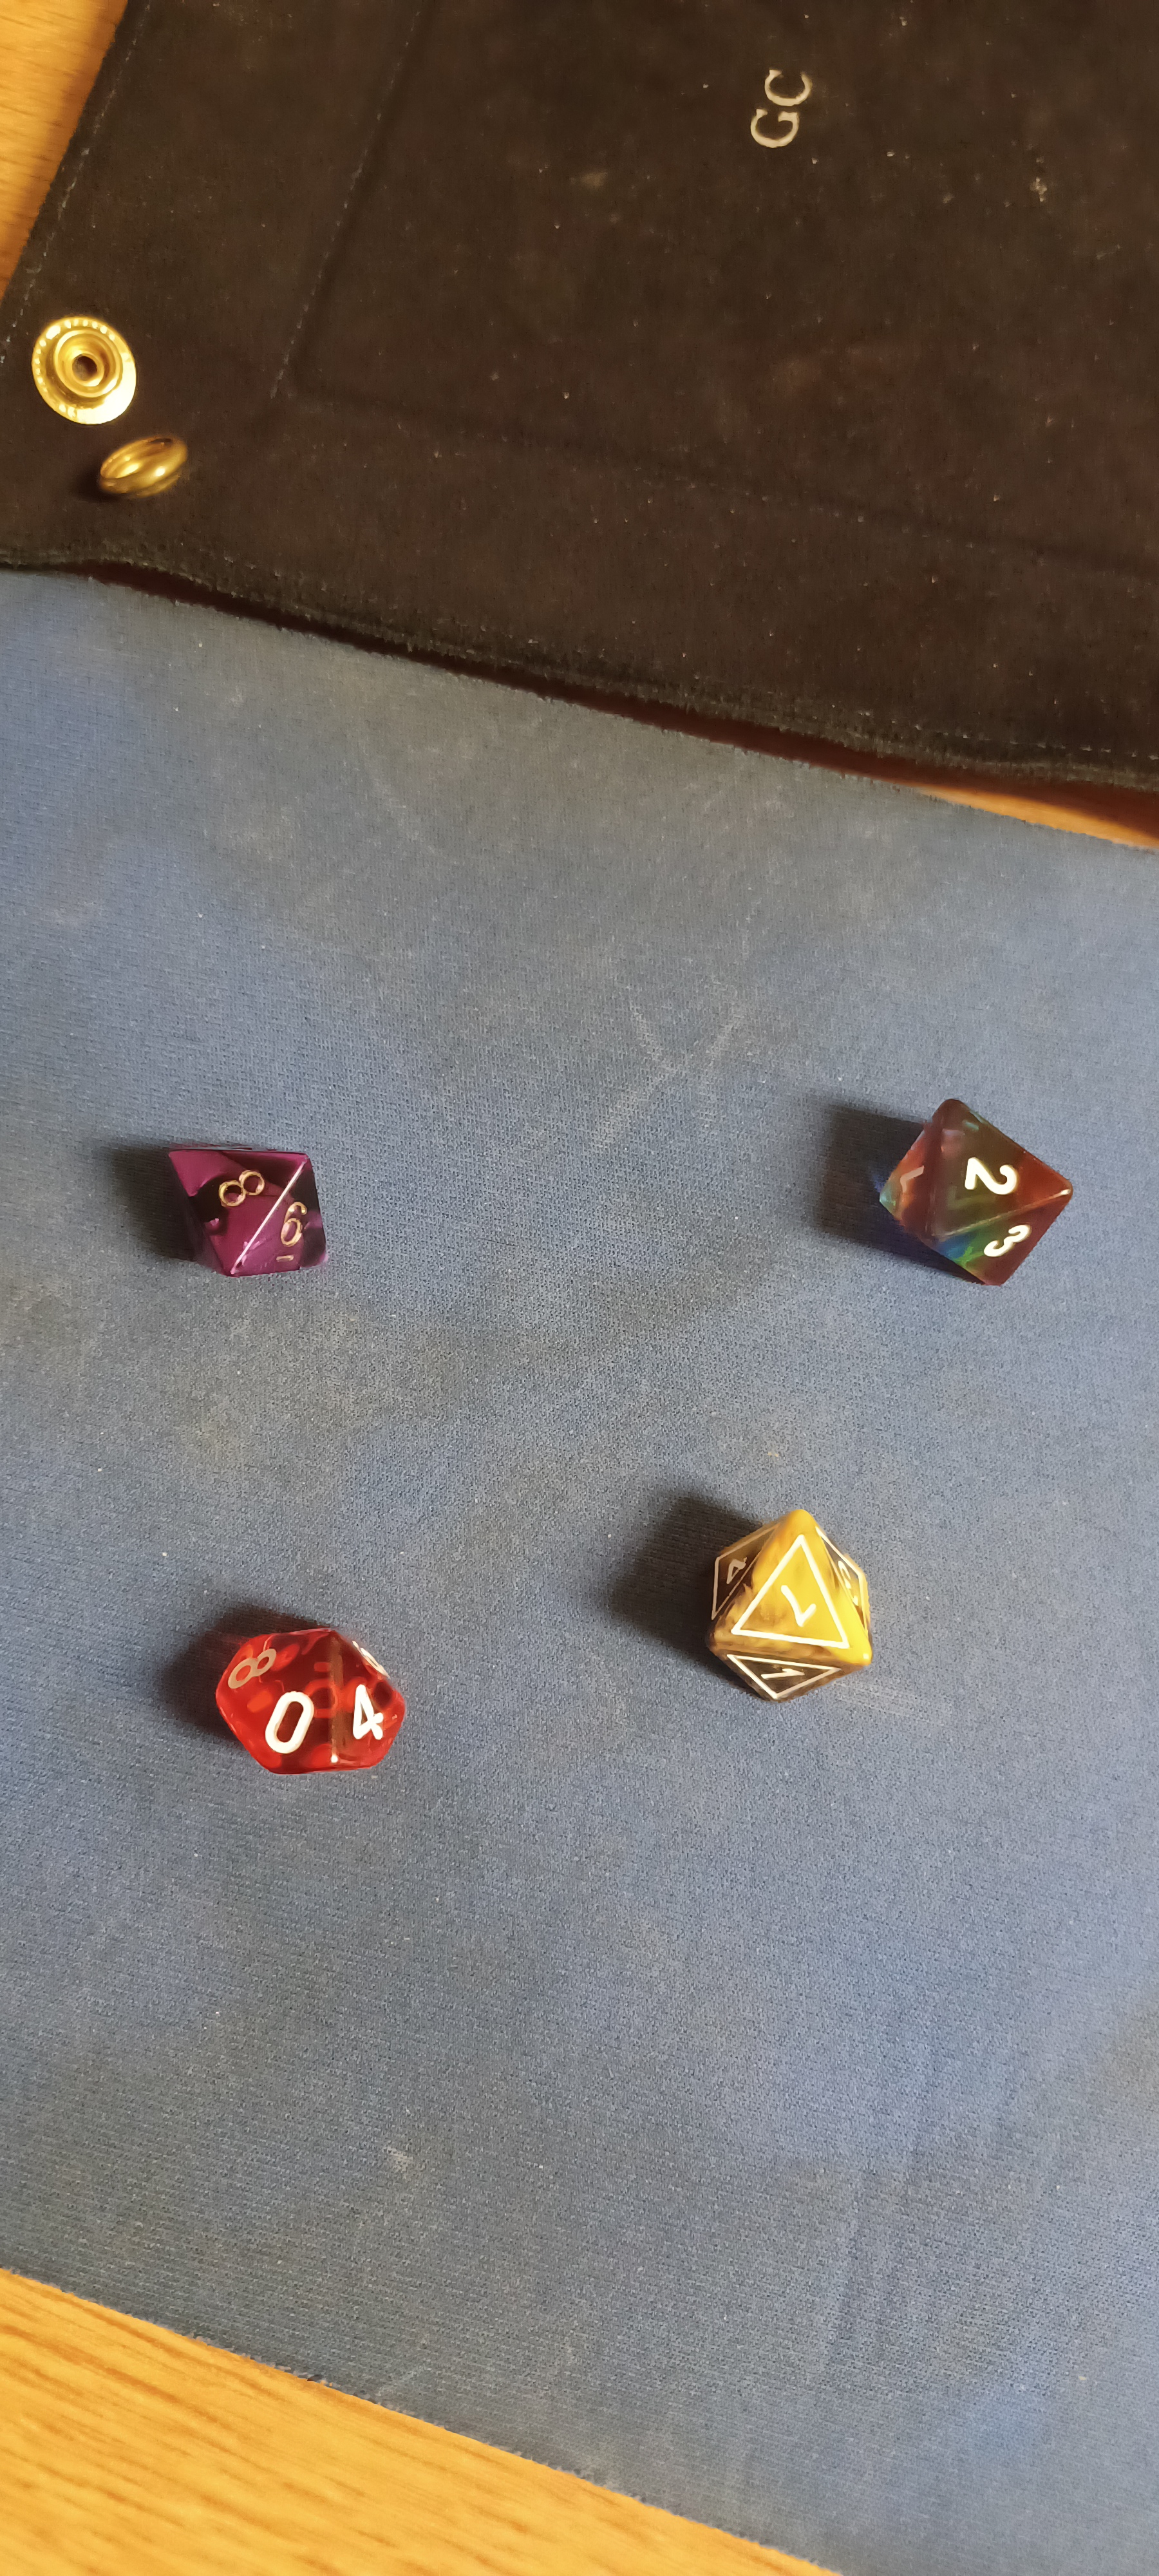eight: (117, 1106, 376, 1304)
seven: (696, 1488, 900, 1715)
two: (844, 1061, 1106, 1296)
zero: (186, 1587, 438, 1825)
